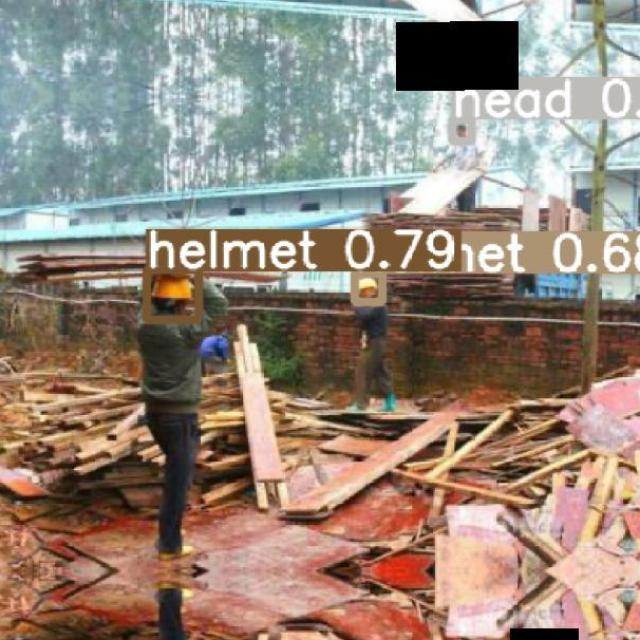helmet: (151, 276, 192, 300)
